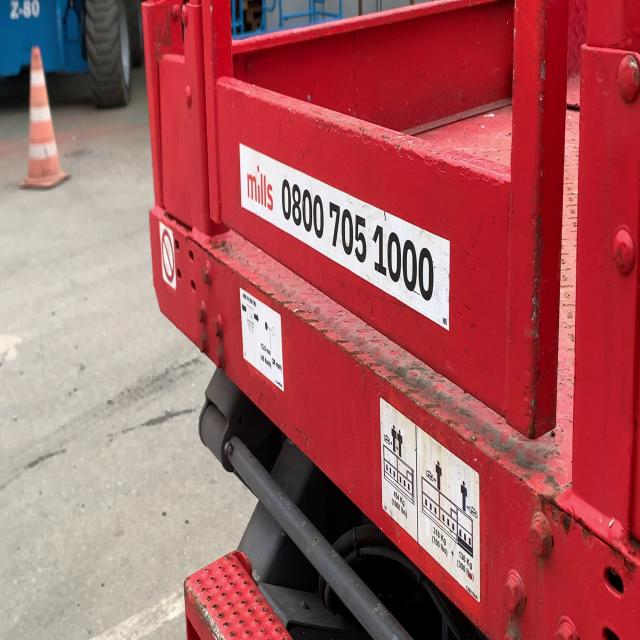Adesivo Longo: (238, 139, 452, 335)
